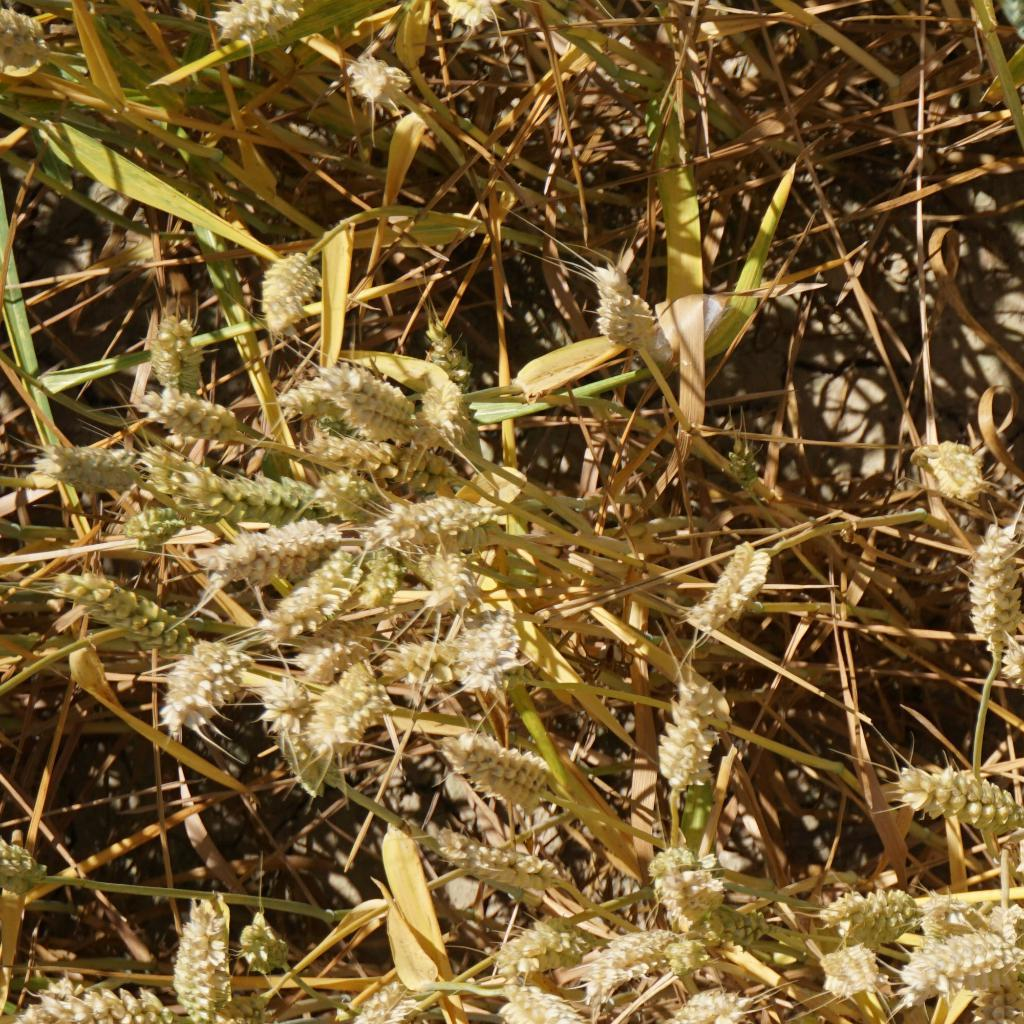0-0: (911, 877, 1024, 976), (301, 459, 427, 547), (434, 822, 559, 904), (254, 541, 362, 632), (897, 763, 1024, 839), (164, 883, 237, 1015), (446, 735, 564, 812), (266, 711, 360, 803), (160, 469, 318, 523), (961, 520, 1022, 654), (197, 519, 332, 576), (643, 692, 716, 792), (920, 930, 1024, 999), (689, 533, 775, 615), (588, 256, 659, 352), (133, 301, 210, 388), (160, 641, 246, 718), (483, 976, 617, 1024), (52, 438, 155, 499), (69, 579, 175, 638), (594, 923, 681, 994), (918, 426, 994, 506), (19, 981, 156, 1024), (324, 374, 408, 442), (364, 495, 499, 537), (836, 880, 927, 940), (308, 429, 409, 482), (150, 380, 230, 443), (464, 614, 531, 689), (162, 982, 280, 1024), (335, 974, 434, 1024), (257, 251, 318, 331), (656, 981, 769, 1024), (312, 684, 385, 748), (382, 627, 456, 689), (504, 914, 579, 975), (658, 856, 723, 917), (415, 547, 479, 607), (235, 908, 289, 979), (945, 976, 1024, 1024), (277, 371, 341, 428), (2, 0, 58, 65), (699, 903, 780, 947), (218, 0, 297, 45), (336, 54, 405, 103), (419, 379, 472, 440), (120, 502, 193, 546), (351, 550, 405, 608), (832, 944, 891, 995), (722, 423, 761, 498), (256, 676, 307, 731), (290, 638, 358, 679), (0, 839, 44, 888), (1005, 641, 1024, 694), (237, 1009, 301, 1024)
